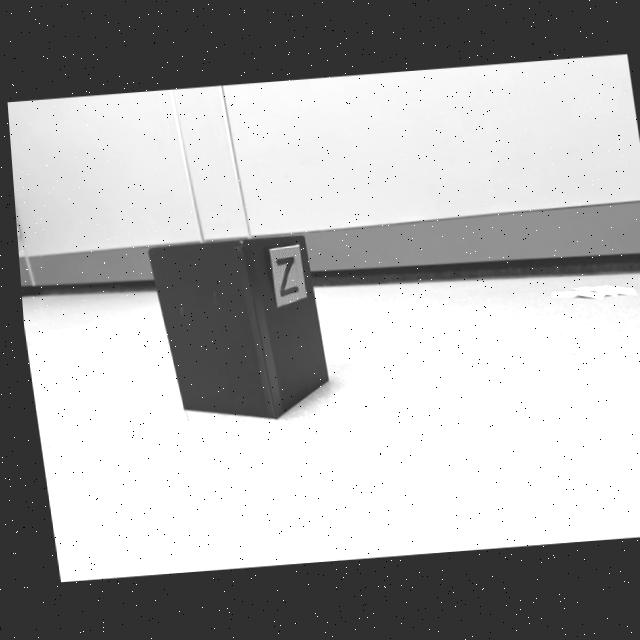Z: (272, 257, 295, 297)
